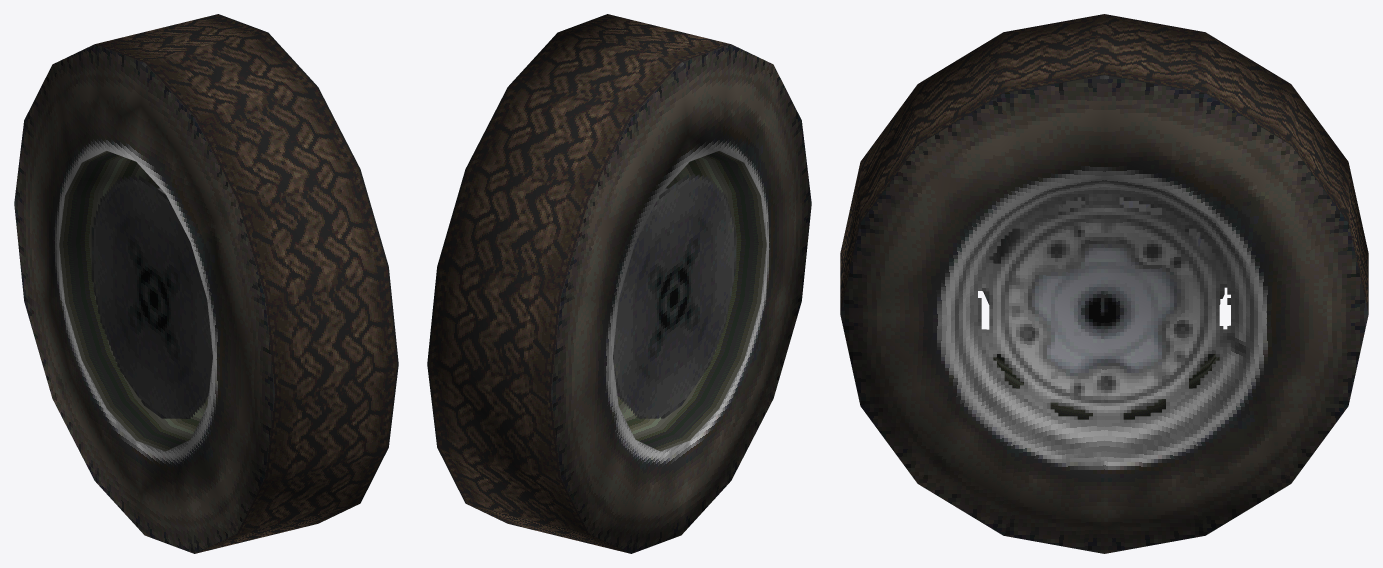
The model's file is rear_right.glb.
The picture shows the model from 3 angles, left to right: view 1: azimuth 30°, elevation 25°; view 2: azimuth 150°, elevation 25°; view 3: azimuth 270°, elevation 25°; orthographic projection.
Visible parts, largest first — view 1: Wheel_rear_right; view 2: Wheel_rear_right; view 3: Wheel_rear_right.
Boxes of the visible parts, left/top/right/bottom form: Wheel_rear_right: left=14, top=14, right=398, bottom=553; Wheel_rear_right: left=427, top=14, right=811, bottom=553; Wheel_rear_right: left=840, top=14, right=1368, bottom=553.
Bounding box in the file's own units: 0.2189 × 0.7031 × 0.7031.
Materials: 2 (2 with a texture image).
